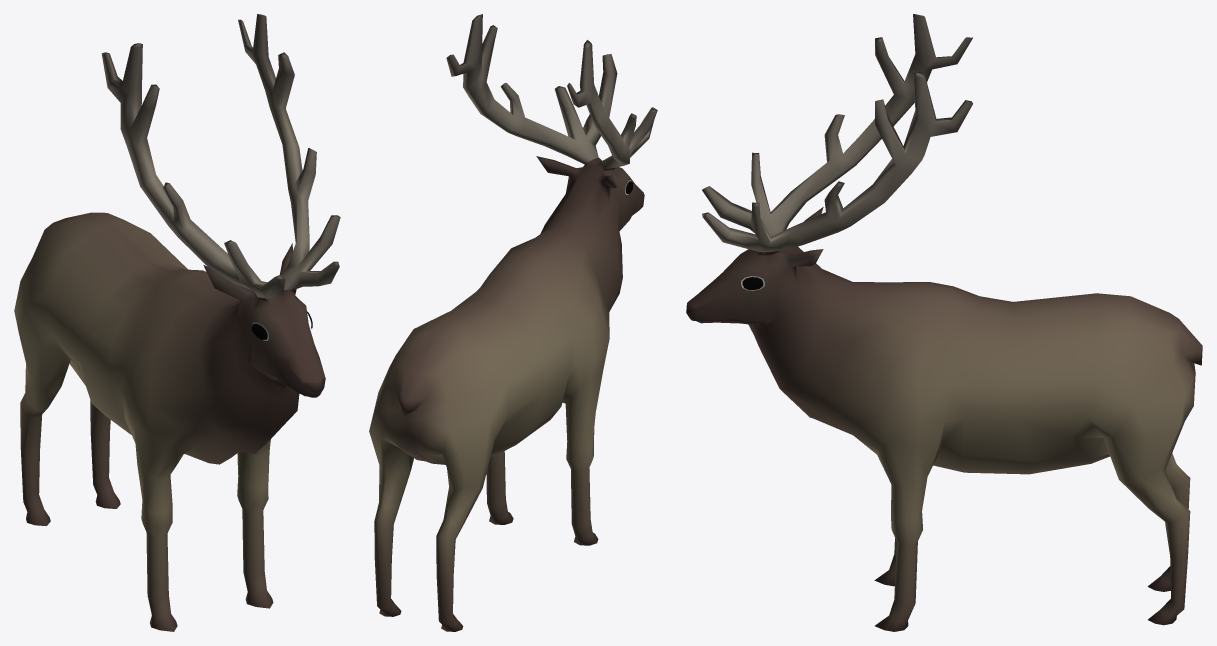
The model's file is kit-elk.glb.
3 views of the same model, side by side, from view 1: azimuth 30°, elevation 25°; view 2: azimuth 150°, elevation 25°; view 3: azimuth 270°, elevation 25° (orthographic). The views are drawn at different scales.
Parts seen in each view (by area): view 1: alt608; view 2: alt608; view 3: alt608.
Part boxes in pixels (x1=…): alt608: x1=14, y1=14, x2=340, y2=631; alt608: x1=369, y1=14, x2=657, y2=631; alt608: x1=686, y1=14, x2=1202, y2=631.
Size of the model in its own units: 0.6412 by 2.3 by 1.92.
